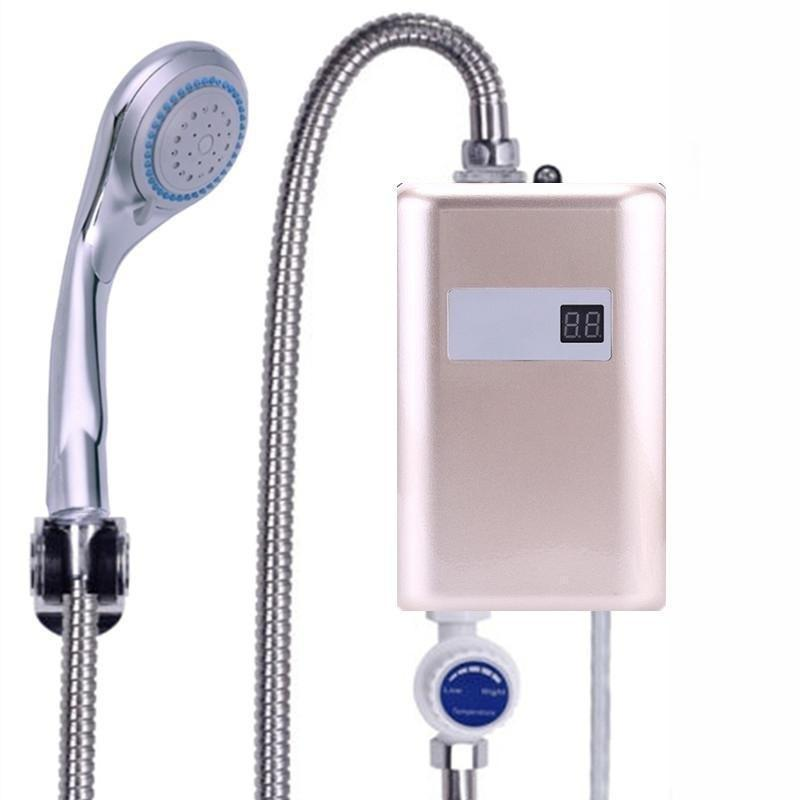Ducha: (0, 0, 661, 799)
